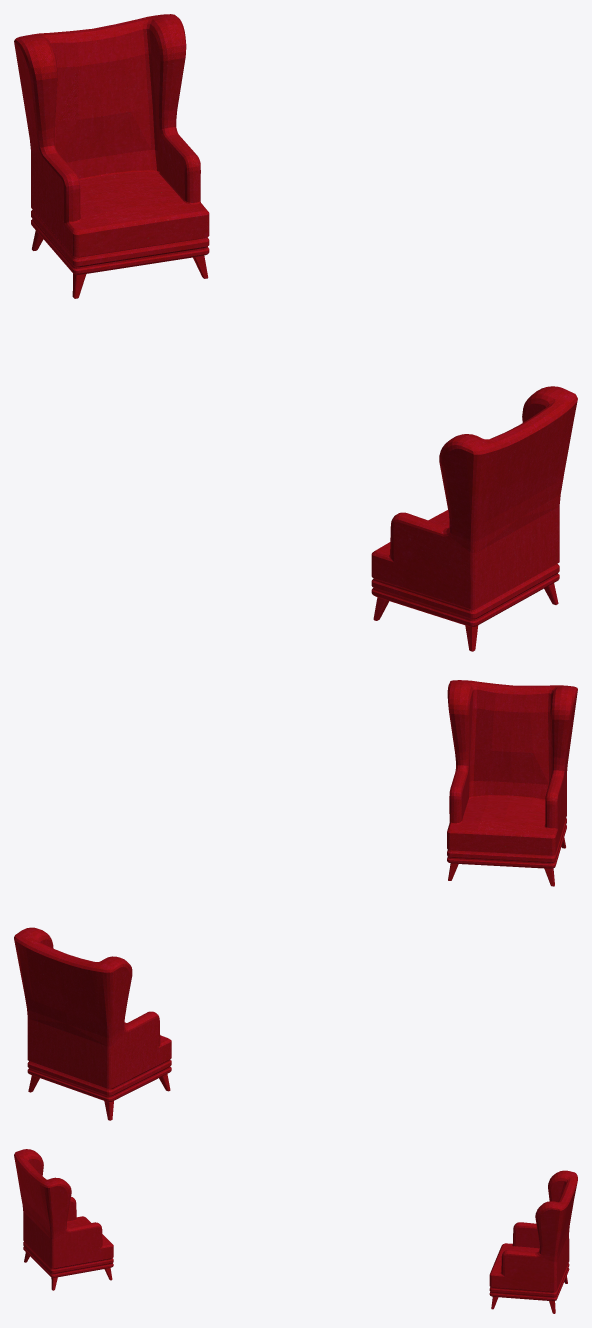
Rendered from fauteuils.glb.
The picture shows the model from 3 angles, top to bottom: view 1: azimuth 30°, elevation 25°; view 2: azimuth 150°, elevation 25°; view 3: azimuth 270°, elevation 25°; orthographic projection. The views are drawn at different scales.
Visible parts, largest first — view 1: fauteuils; view 2: fauteuils; view 3: fauteuils.
Part boxes in pixels (box(x1,y1,x2,y2)): fauteuils: box(14, 14, 577, 651); fauteuils: box(14, 680, 577, 1120); fauteuils: box(14, 1149, 577, 1313).
Bounding box in the file's own units: 1.35 × 1.06 × 4.86.
Materials: 1 (1 with a texture image).
